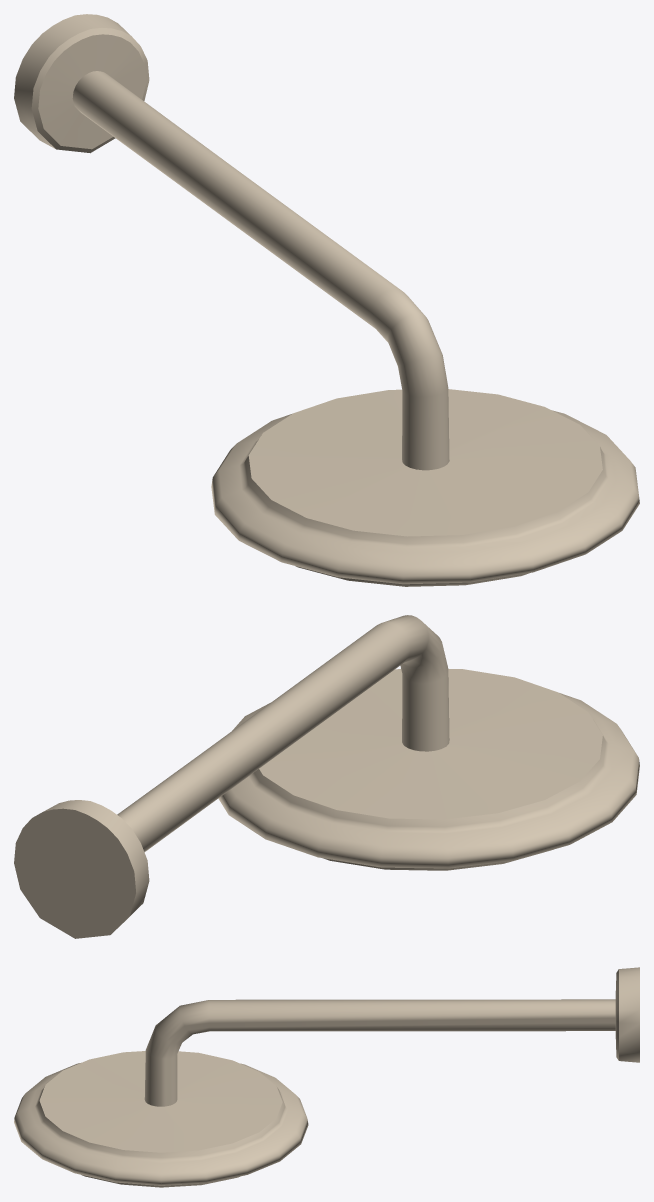
The model's file is shower_06_L.fbx.
3 views of the same model, one above another, from view 1: azimuth 30°, elevation 25°; view 2: azimuth 150°, elevation 25°; view 3: azimuth 270°, elevation 25° (orthographic). The views are drawn at different scales.
Parts seen in each view (by area): view 1: shower_06_L; view 2: shower_06_L; view 3: shower_06_L.
Boxes of the visible parts, x1=… form: shower_06_L: x1=14, y1=14, x2=639, y2=586; shower_06_L: x1=14, y1=615, x2=639, y2=938; shower_06_L: x1=14, y1=967, x2=639, y2=1187.
Size of the model in its own units: 5.57 by 3.39 by 11.84.
